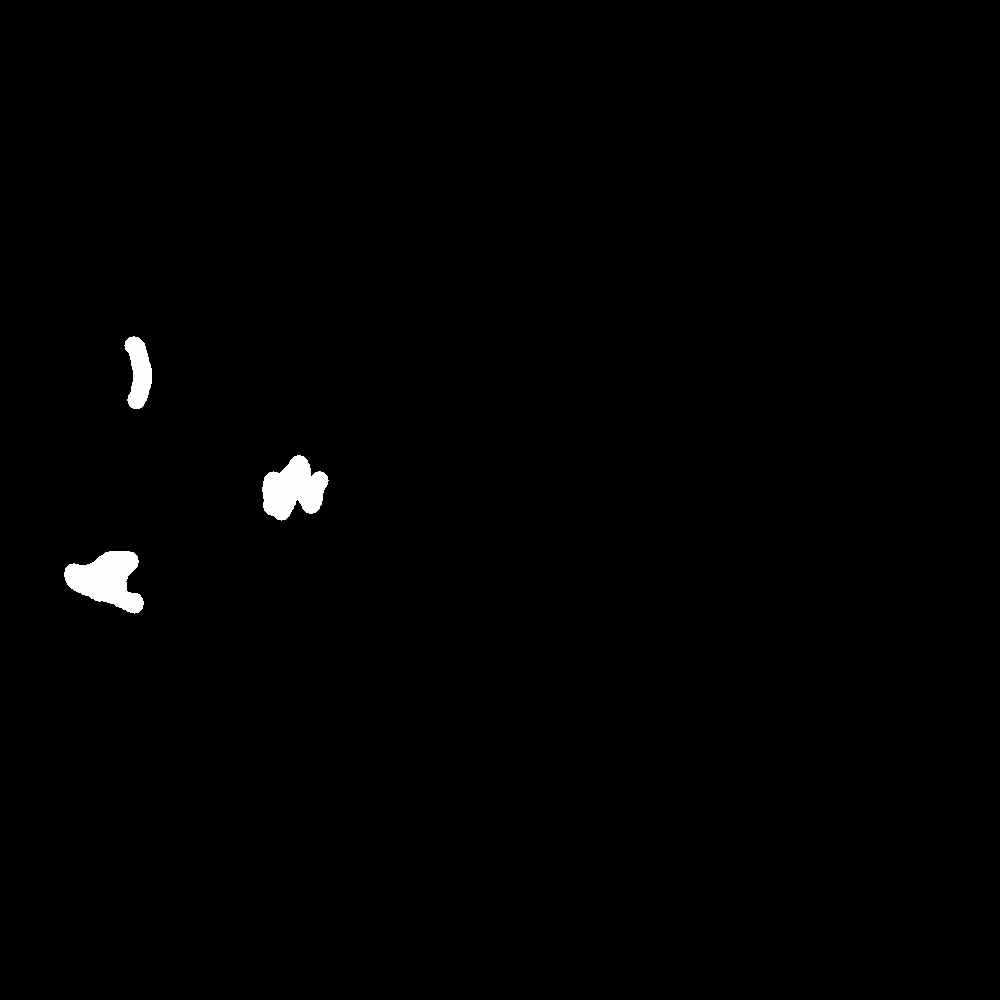illegal: (177, 619, 261, 690), (71, 547, 146, 610), (264, 461, 324, 533)
